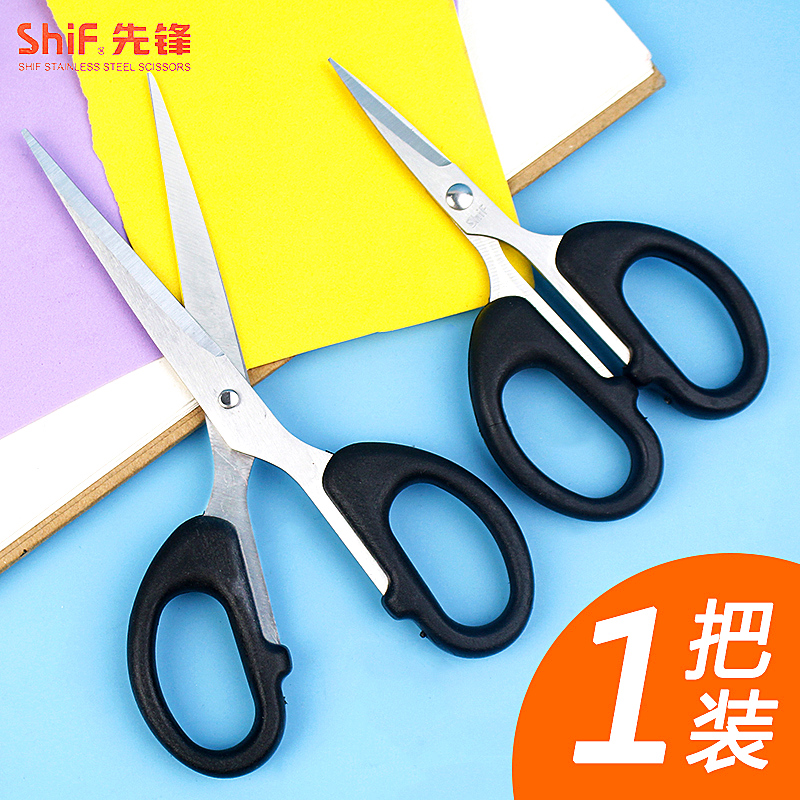scissors: (14, 68, 544, 785), (319, 47, 782, 526)
